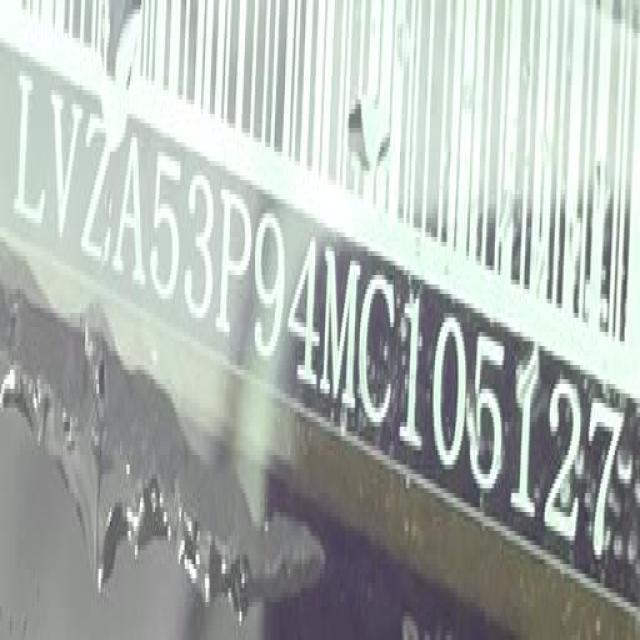0: (430, 294, 474, 485)
1: (394, 283, 434, 467), (508, 348, 548, 531)
2: (543, 358, 591, 554)
3: (184, 159, 222, 338)
4: (287, 217, 327, 404)
5: (468, 312, 509, 511), (147, 136, 184, 314)
7: (585, 384, 637, 574)
9: (251, 198, 292, 383)
A: (113, 120, 151, 299)
C: (358, 258, 403, 444)
L: (13, 61, 51, 236)
M: (315, 233, 364, 430)
P: (216, 177, 255, 360)
V: (48, 76, 88, 259)
Z: (82, 96, 121, 279)
